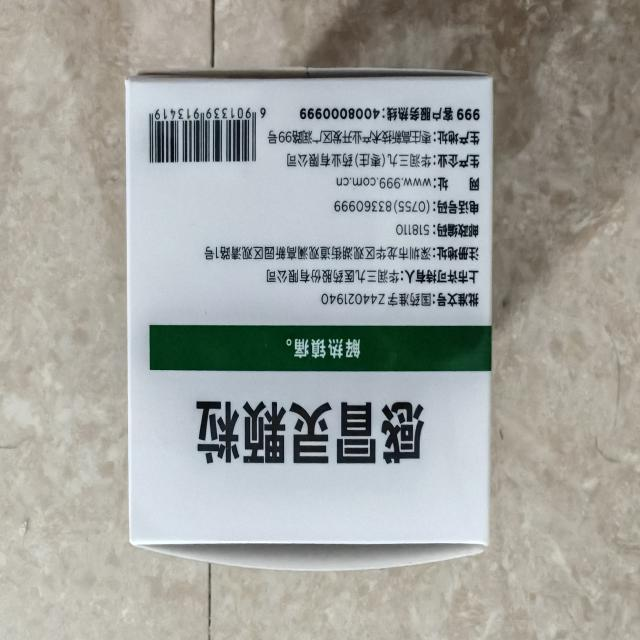box: (111, 55, 505, 582)
